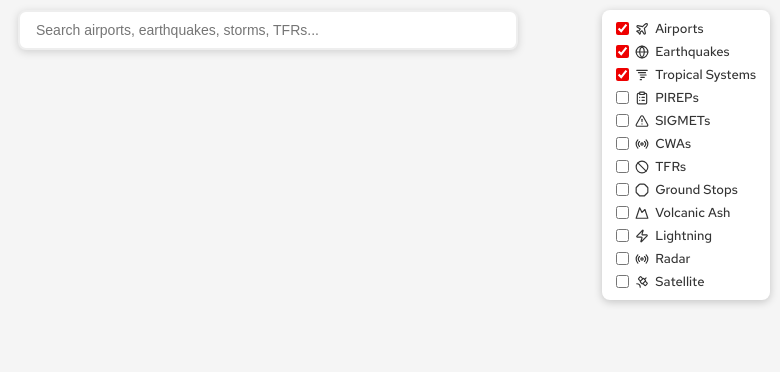
Test: UnifiedMap › shows radar controls when radar is toggled on
The width and height of the screenshot is (780, 372).
# Toggle radar on (4th checkbox)
Click the checkbox labelled "Radar" at (623, 258), box 616,252 -> 629,265
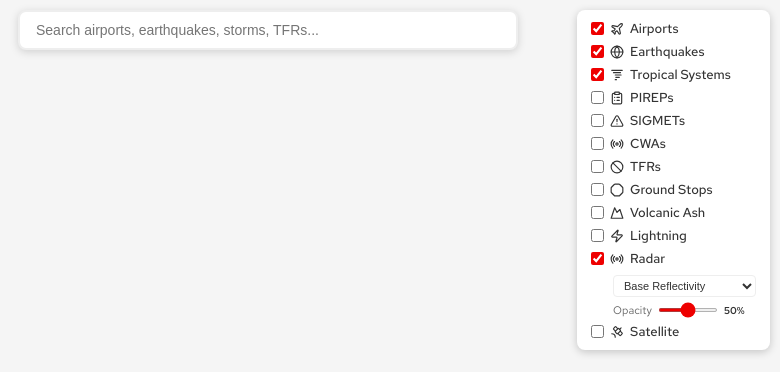
Check: the element with class "radar-controls" is shown, box 591,275 -> 756,317
